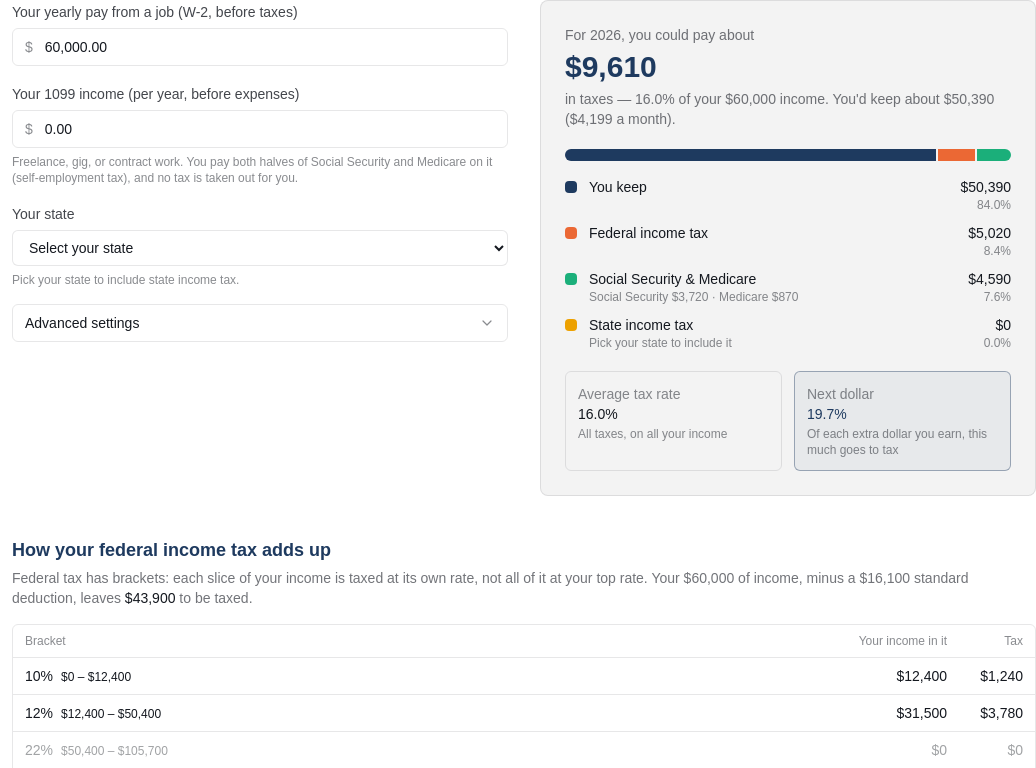
Test case: Income Tax Calculator › explains the Social Security cap for high earners
Replace the text in the field with id "wages" with "250000" at (270, 47), box [33,29,507,65]
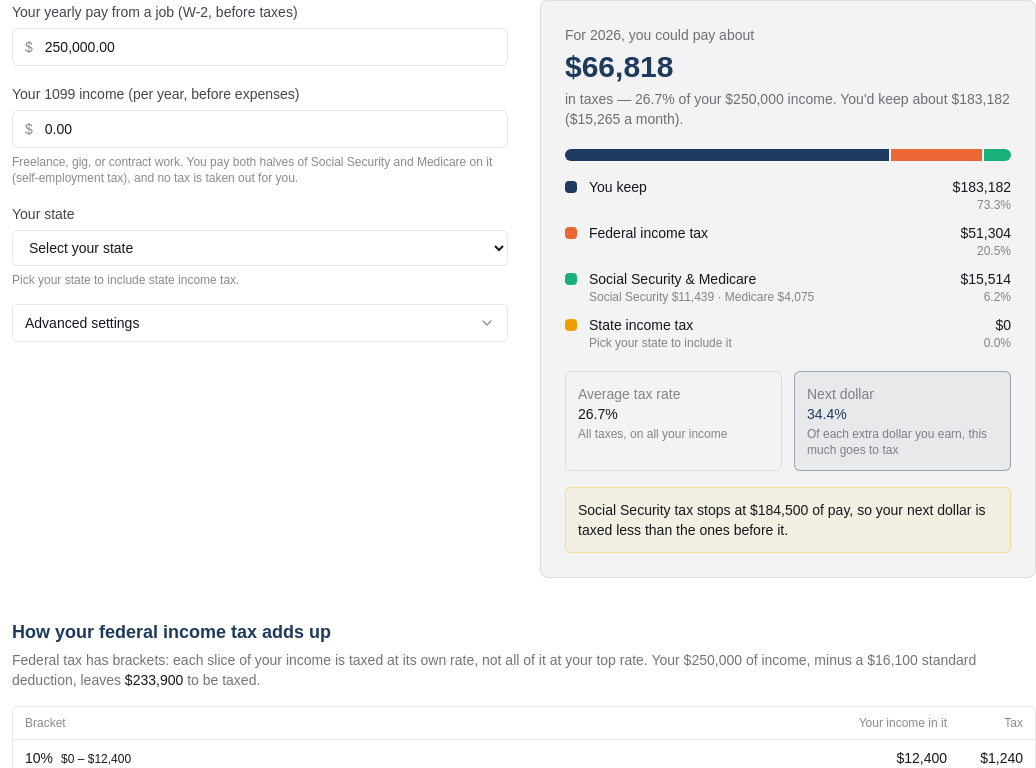
Expected: the text "Social Security tax stops at $184,500" is shown, [578,502,986,538]
Expected: the text "Medicare $4,075" is shown, [589,290,814,304]
